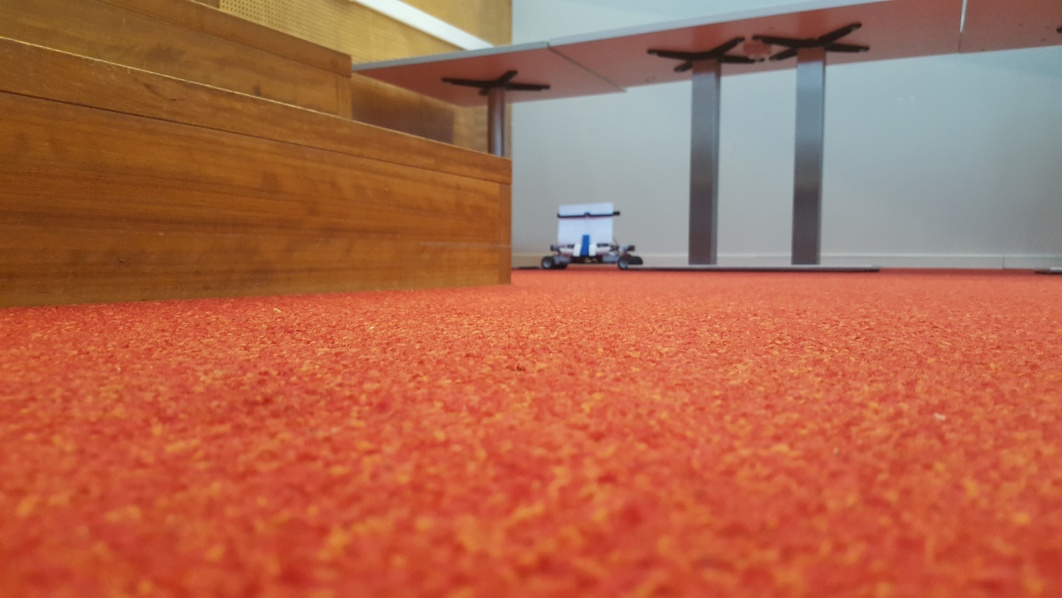car: (540, 202, 643, 272)
